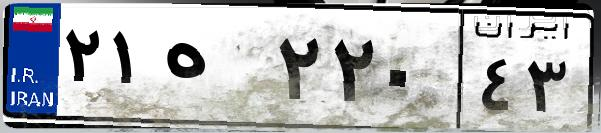0: (385, 28, 445, 110)
1: (110, 28, 158, 98)
2: (270, 28, 330, 110), (330, 28, 385, 110), (57, 26, 110, 100)
3: (525, 38, 570, 115)
4: (475, 38, 525, 113)
ه: (158, 20, 270, 120)
